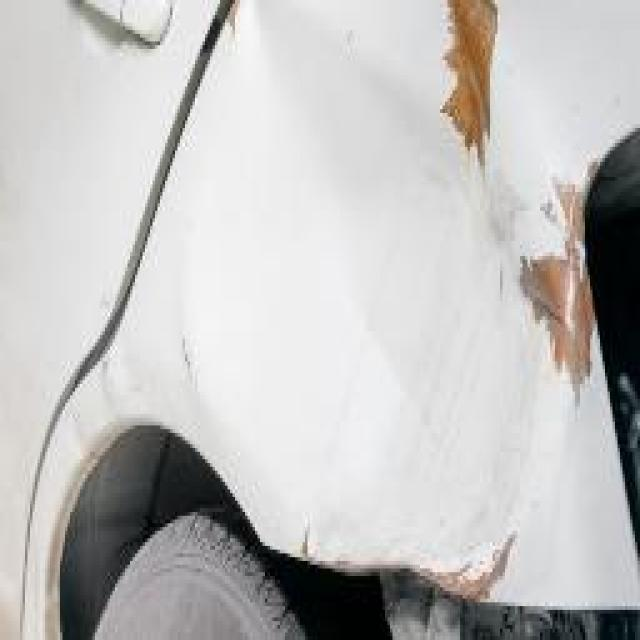Bumper: (222, 0, 640, 640)
